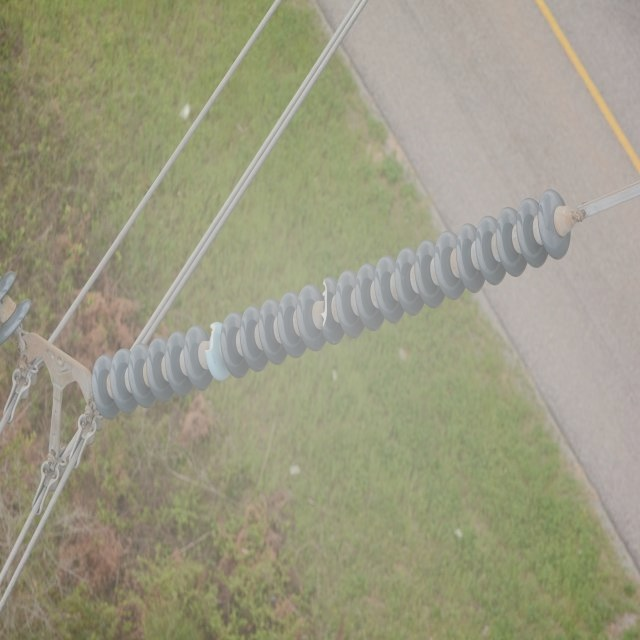broken: (322, 272, 331, 338), (204, 319, 220, 356)
insulator: (90, 192, 571, 414), (0, 267, 35, 343)
